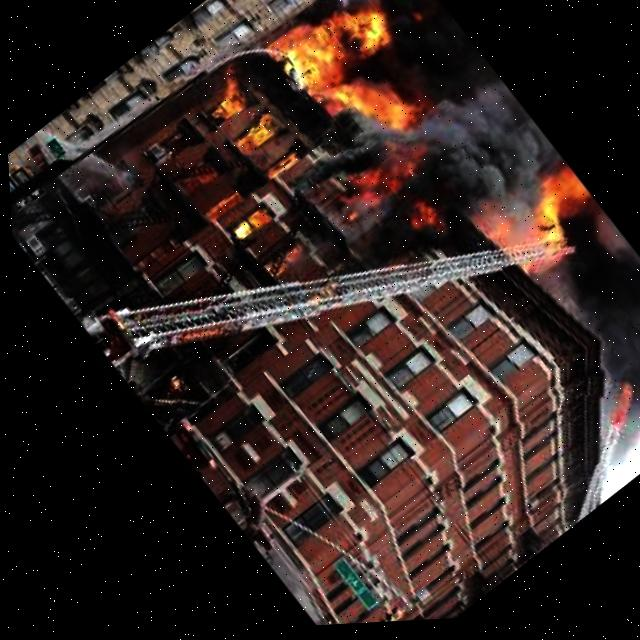Fire: (268, 0, 456, 167), (330, 147, 446, 269), (494, 174, 608, 279), (183, 58, 262, 135), (221, 202, 278, 254), (228, 112, 286, 163)
Smoke: (476, 204, 640, 476), (381, 59, 569, 247), (318, 0, 476, 120)
